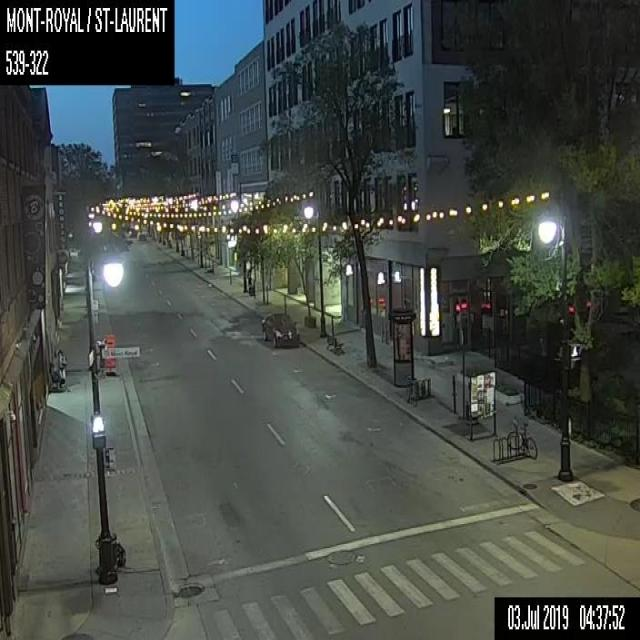construction: (104, 334, 118, 374)
pedestrian: (56, 348, 71, 389), (48, 361, 62, 389)
vehicle: (260, 311, 299, 348)
